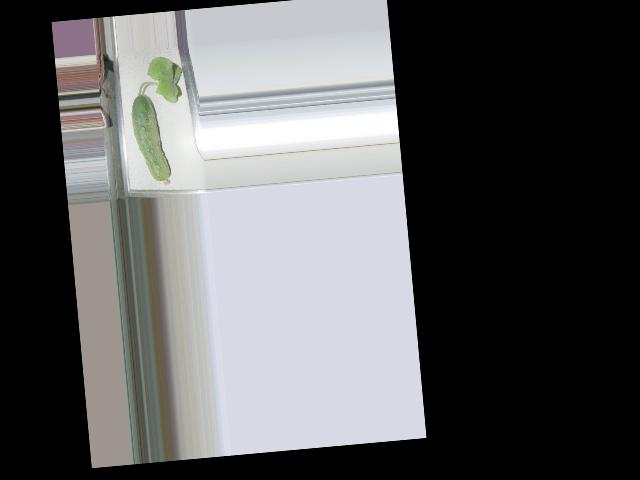cucumber: (129, 91, 171, 187)
